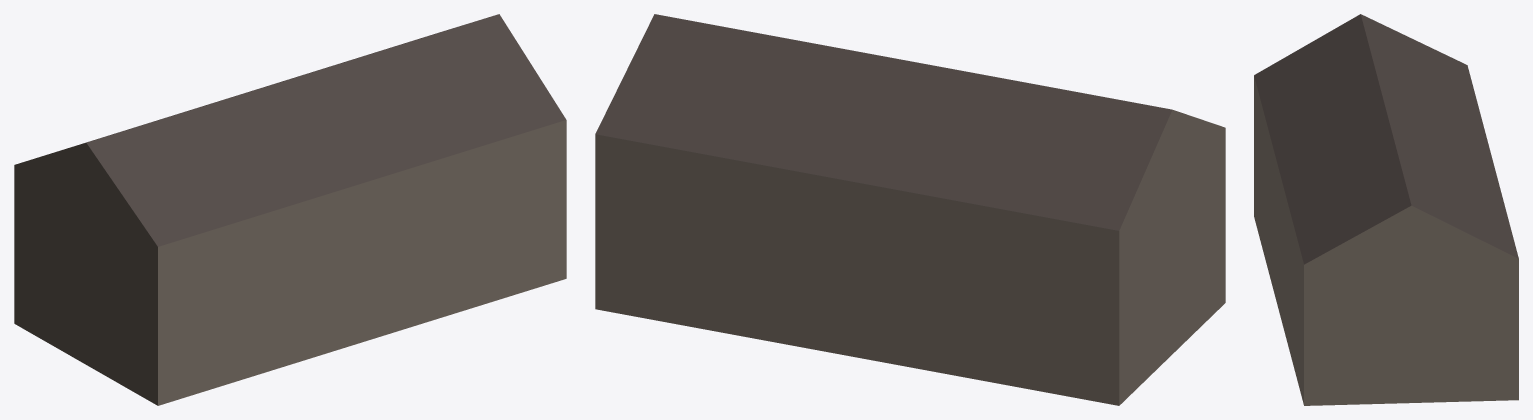
3 views of the same model, side by side, from view 1: azimuth 30°, elevation 25°; view 2: azimuth 150°, elevation 25°; view 3: azimuth 270°, elevation 25° (orthographic). The views are drawn at different scales.
Visible parts, largest first — view 1: HP-w859467768; view 2: HP-w859467768; view 3: HP-w859467768.
Part boxes in pixels (left/top/right/bottom): HP-w859467768: left=14, top=14, right=566, bottom=405; HP-w859467768: left=595, top=14, right=1225, bottom=405; HP-w859467768: left=1254, top=14, right=1518, bottom=405.
Bounding box in the file's own units: 27.27 × 12.58 × 15.3.
